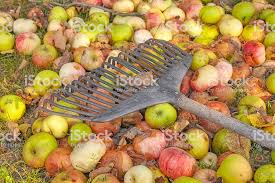apple: (21, 133, 55, 166), (144, 105, 181, 128), (220, 157, 251, 183)
damaged_apple: (154, 145, 199, 175), (211, 128, 257, 157), (195, 100, 238, 131), (73, 139, 110, 174), (132, 127, 166, 155), (187, 64, 222, 90), (213, 34, 248, 60), (1, 89, 28, 122), (27, 69, 64, 93), (13, 32, 47, 57), (102, 20, 135, 45), (102, 149, 134, 174), (76, 44, 106, 70), (44, 145, 76, 169), (184, 47, 219, 68), (241, 39, 266, 67), (32, 44, 58, 69), (179, 18, 209, 39), (233, 2, 258, 26), (199, 5, 226, 24)
